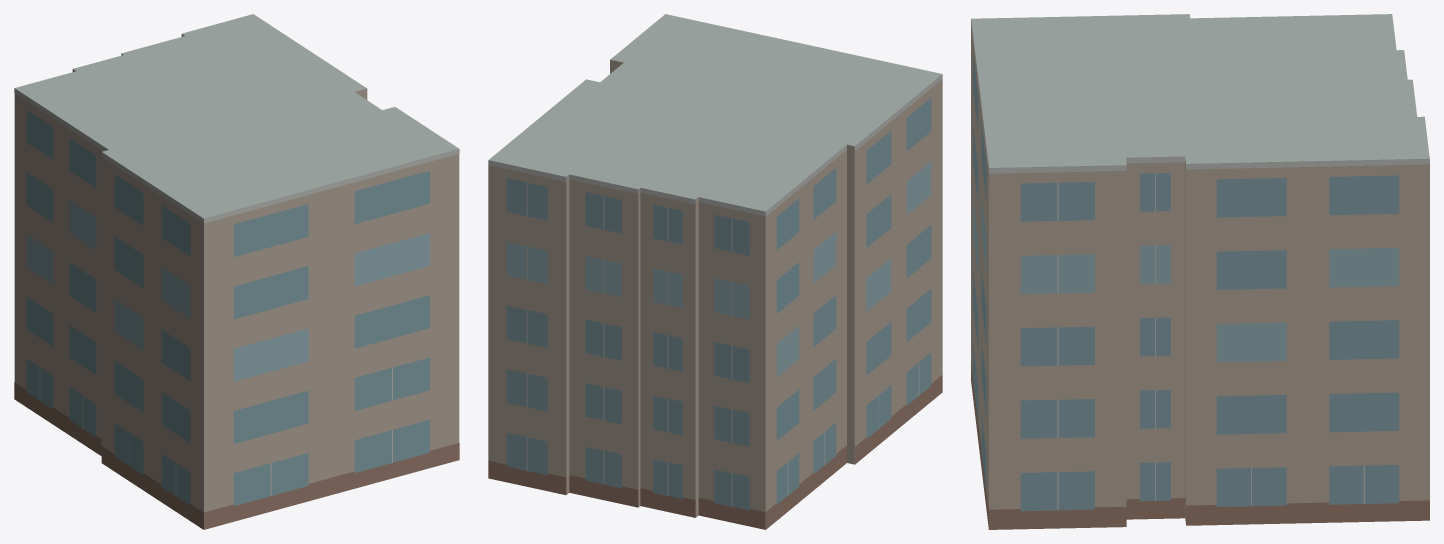
File: survey-upis-32656215.glb
3 views of the same model, side by side, from view 1: azimuth 30°, elevation 25°; view 2: azimuth 150°, elevation 25°; view 3: azimuth 270°, elevation 25° (orthographic). The views are drawn at different scales.
Visible parts, largest first — view 1: survey-upis-32656215.tmp; view 2: survey-upis-32656215.tmp; view 3: survey-upis-32656215.tmp.
Boxes of the visible parts, x1,y1,x2,y2 form: survey-upis-32656215.tmp: (14, 14, 459, 529); survey-upis-32656215.tmp: (488, 14, 942, 529); survey-upis-32656215.tmp: (971, 14, 1429, 529).
Bounding box in the file's own units: 14.16 × 15.5 × 17.82.
